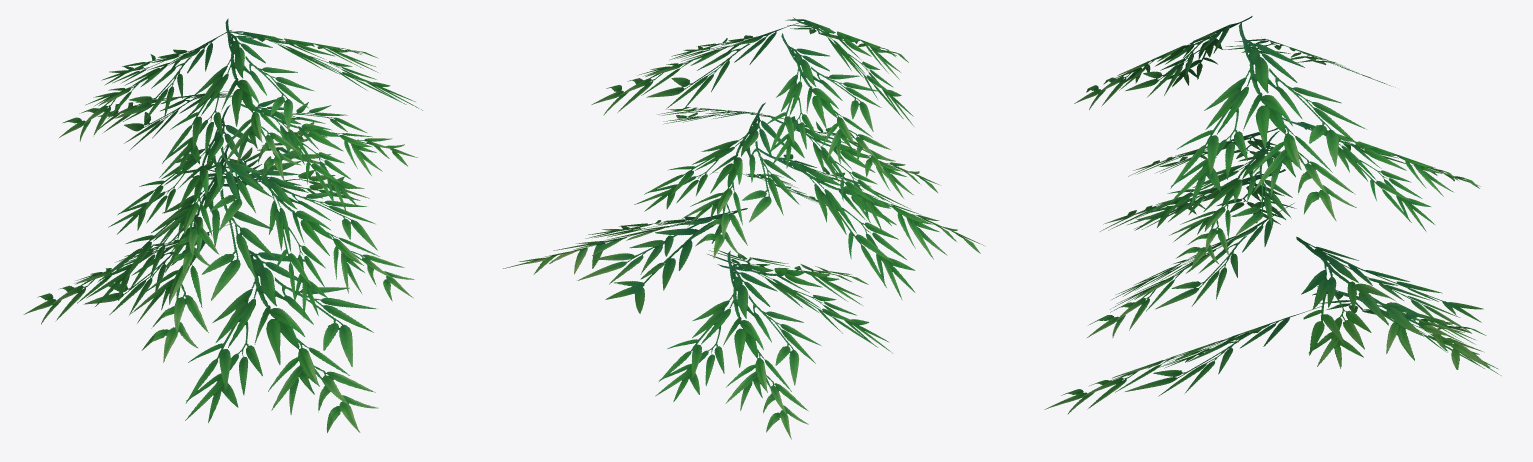
The model's file is Area_11_58.fbx.
The picture shows the model from 3 angles, left to right: view 1: azimuth 30°, elevation 25°; view 2: azimuth 150°, elevation 25°; view 3: azimuth 270°, elevation 25°; orthographic projection. The views are drawn at different scales.
Parts seen in each view (by area): view 1: Area_11_58; view 2: Area_11_58; view 3: Area_11_58.
Part boxes in pixels (x1=…): Area_11_58: x1=23, y1=18, x2=422, y2=432; Area_11_58: x1=503, y1=17, x2=985, y2=439; Area_11_58: x1=1044, y1=16, x2=1501, y2=414.
Size of the model in its own units: 1134 by 1153 by 1271.
